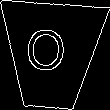O_S: (30, 29, 73, 83)
